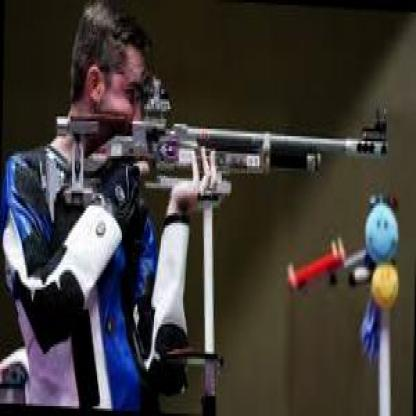rifle: (57, 99, 395, 213)
